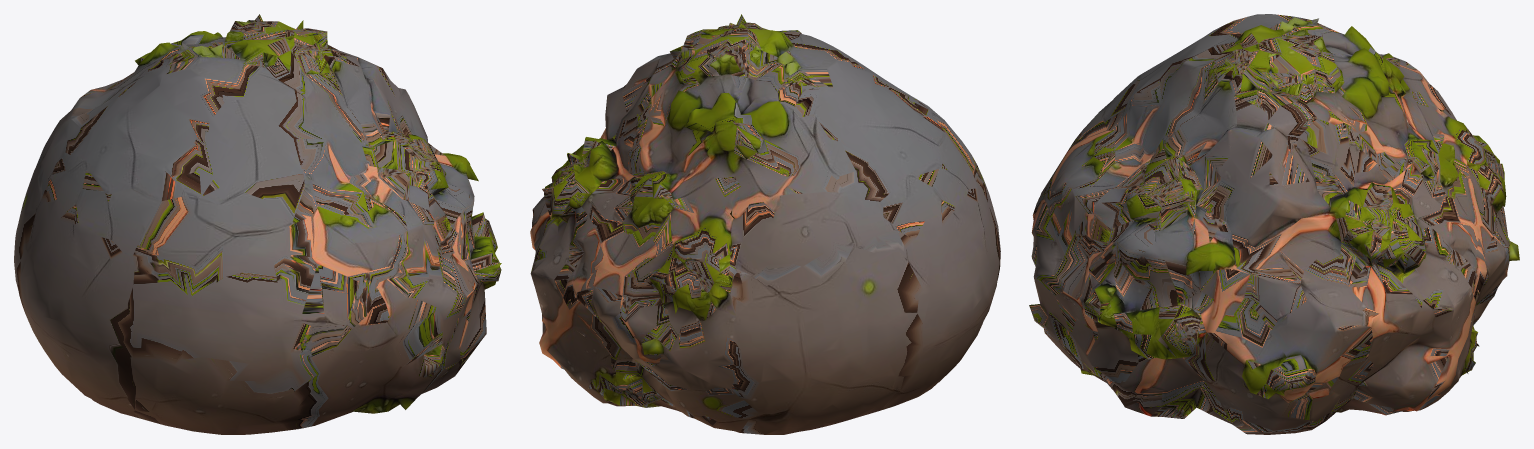
Rendered from mossy_copper_ore_rock_01.glb.
3 views of the same model, side by side, from view 1: azimuth 30°, elevation 25°; view 2: azimuth 150°, elevation 25°; view 3: azimuth 270°, elevation 25° (orthographic).
Visible parts, largest first — view 1: tripo_node_44f73511-2f38-476c-9301-0f1aa3816b8f; view 2: tripo_node_44f73511-2f38-476c-9301-0f1aa3816b8f; view 3: tripo_node_44f73511-2f38-476c-9301-0f1aa3816b8f.
Boxes of the visible parts, bbox=[...] form: tripo_node_44f73511-2f38-476c-9301-0f1aa3816b8f: bbox=[14, 14, 501, 434]; tripo_node_44f73511-2f38-476c-9301-0f1aa3816b8f: bbox=[530, 14, 1000, 434]; tripo_node_44f73511-2f38-476c-9301-0f1aa3816b8f: bbox=[1029, 14, 1519, 434].
Bounding box in the file's own units: 0.9936 × 0.7683 × 0.9872.
Materials: 1 (1 with a texture image).
